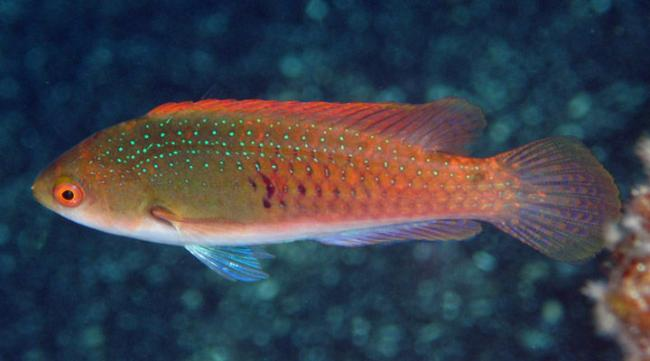fish: (32, 96, 622, 281)
